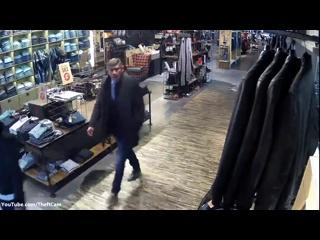Normal: (86, 57, 148, 198)
